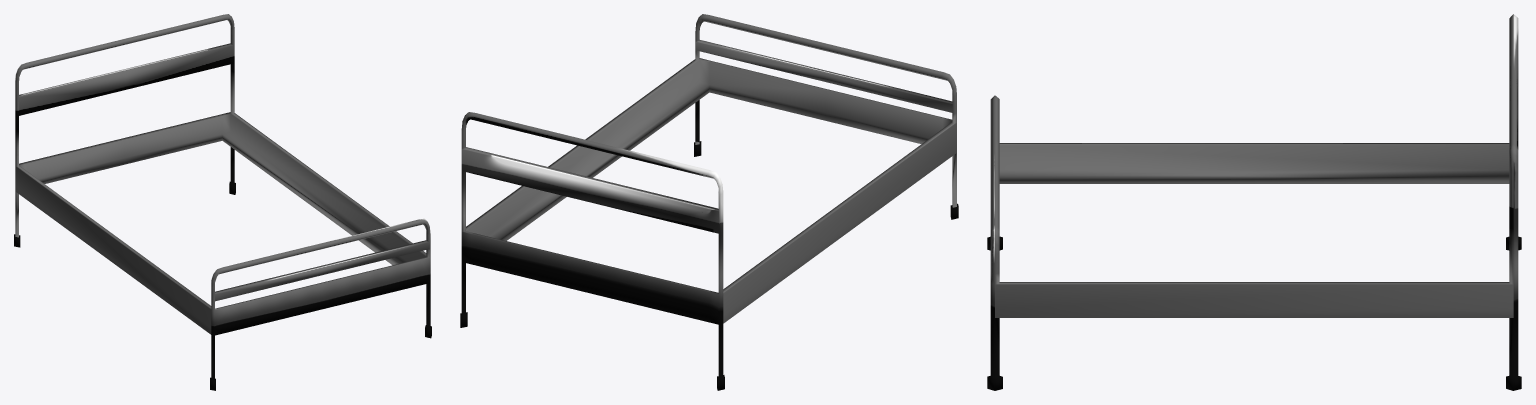
Rendered from Cama2.fbx.
3 views of the same model, side by side, from view 1: azimuth 30°, elevation 25°; view 2: azimuth 150°, elevation 25°; view 3: azimuth 270°, elevation 25° (orthographic). The views are drawn at different scales.
Visible parts, largest first — view 1: Cube.009; view 2: Cube.009; view 3: Cube.009.
Part boxes in pixels (x1,y1,x2,y2): Cube.009: [14, 14, 431, 390]; Cube.009: [460, 14, 958, 390]; Cube.009: [987, 14, 1521, 390].
Bounding box in the file's own units: 764 × 594 × 1202.
1 material, 1 textured.
